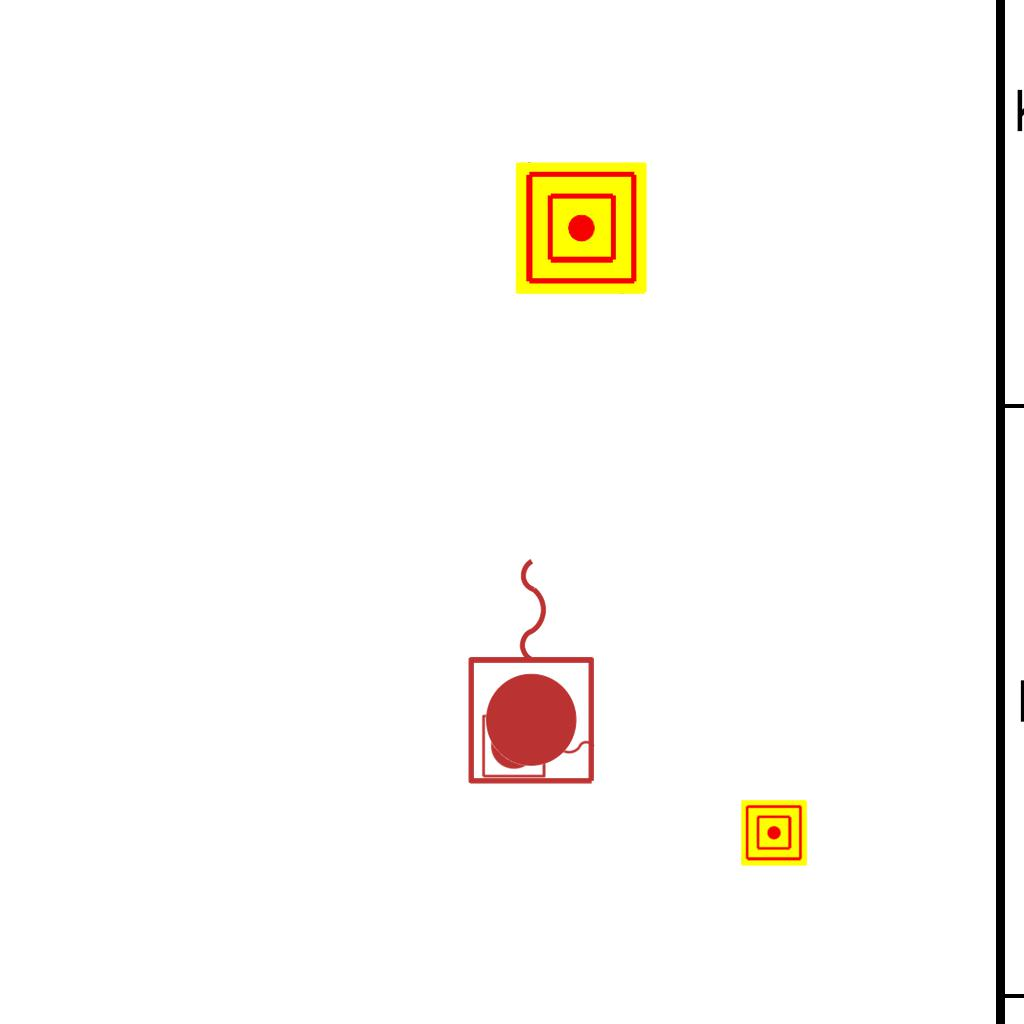NAM-Nichtautomatischer_Melder: (515, 162, 647, 294), (741, 800, 807, 866)
Zugtaster: (461, 548, 605, 792), (478, 711, 600, 783)
